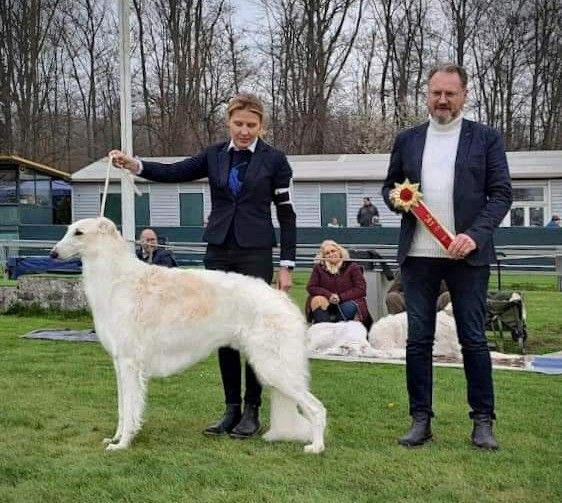borzoi: (51, 212, 330, 457)
